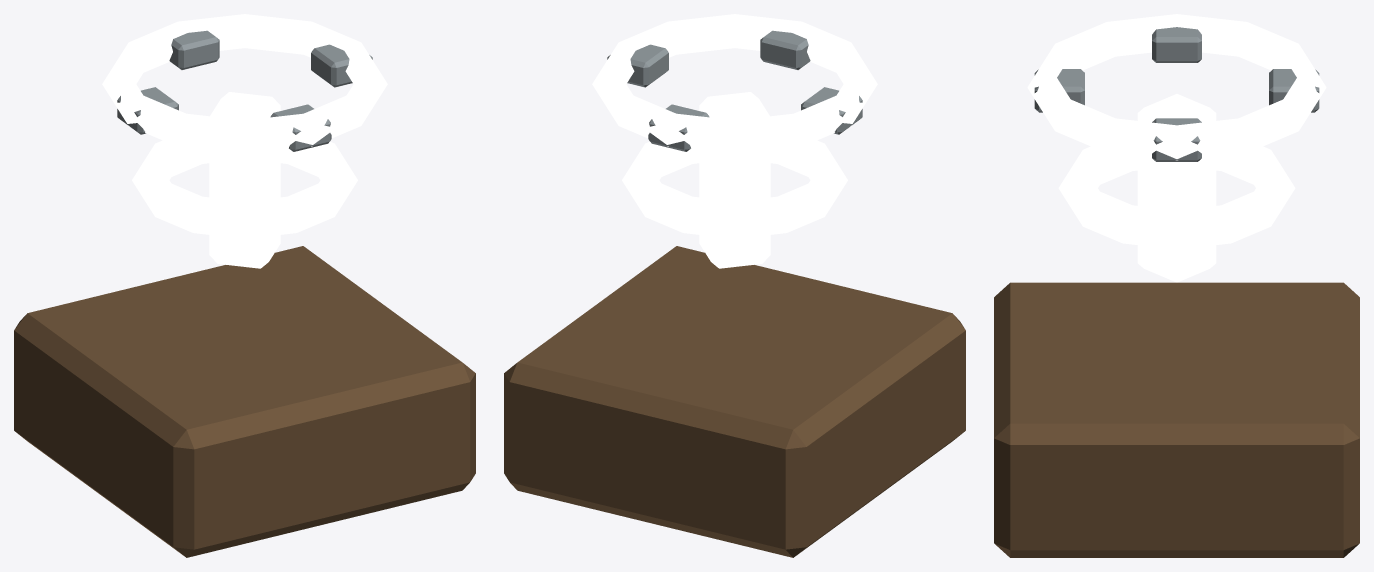
Rendered from town_ward_focus.glb.
3 renders of one model, left to right at view 1: azimuth 30°, elevation 25°; view 2: azimuth 150°, elevation 25°; view 3: azimuth 270°, elevation 25°, orthographic. The views are drawn at different scales.
Bounding box in the file's own units: 1.02 × 1.27 × 1.02.
